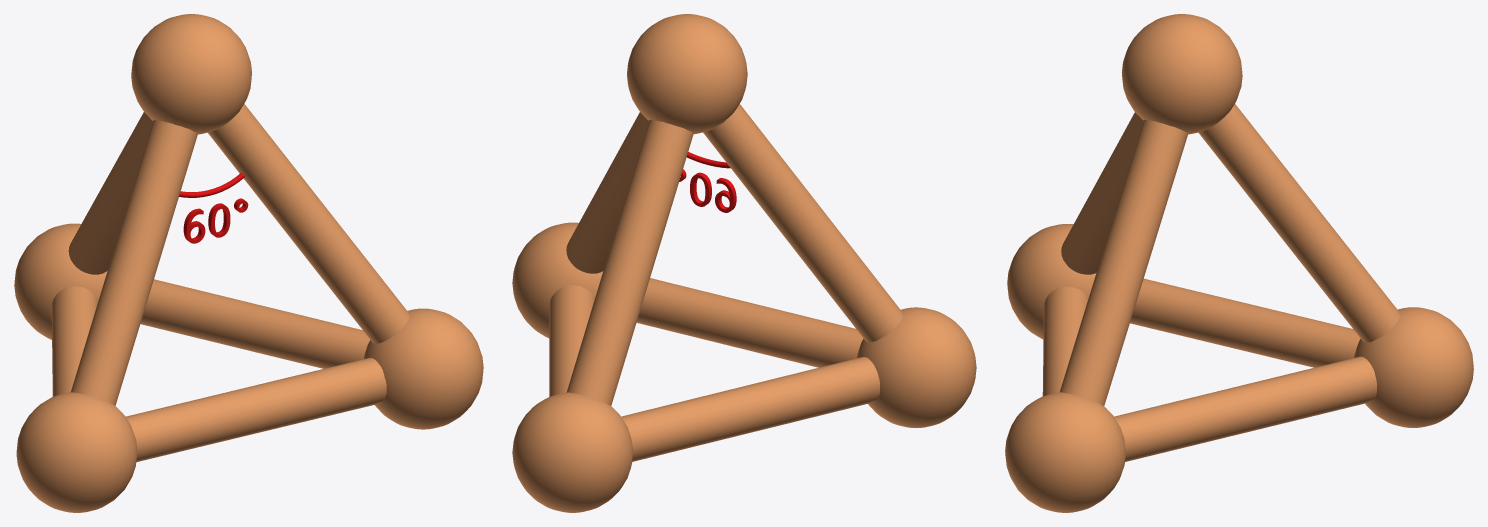
3 views of the same model, side by side, from view 1: azimuth 30°, elevation 25°; view 2: azimuth 150°, elevation 25°; view 3: azimuth 270°, elevation 25° (orthographic).
Parts seen in each view (by area): view 1: G2; view 2: G2; view 3: G2.
Part boxes in pixels (x1,y1,x2,y2): G2: [14, 14, 483, 512]; G2: [512, 14, 976, 512]; G2: [1005, 14, 1473, 512].
Bounding box in the file's own units: 133 × 114 × 120.
Materials: 1 (1 with a texture image).
